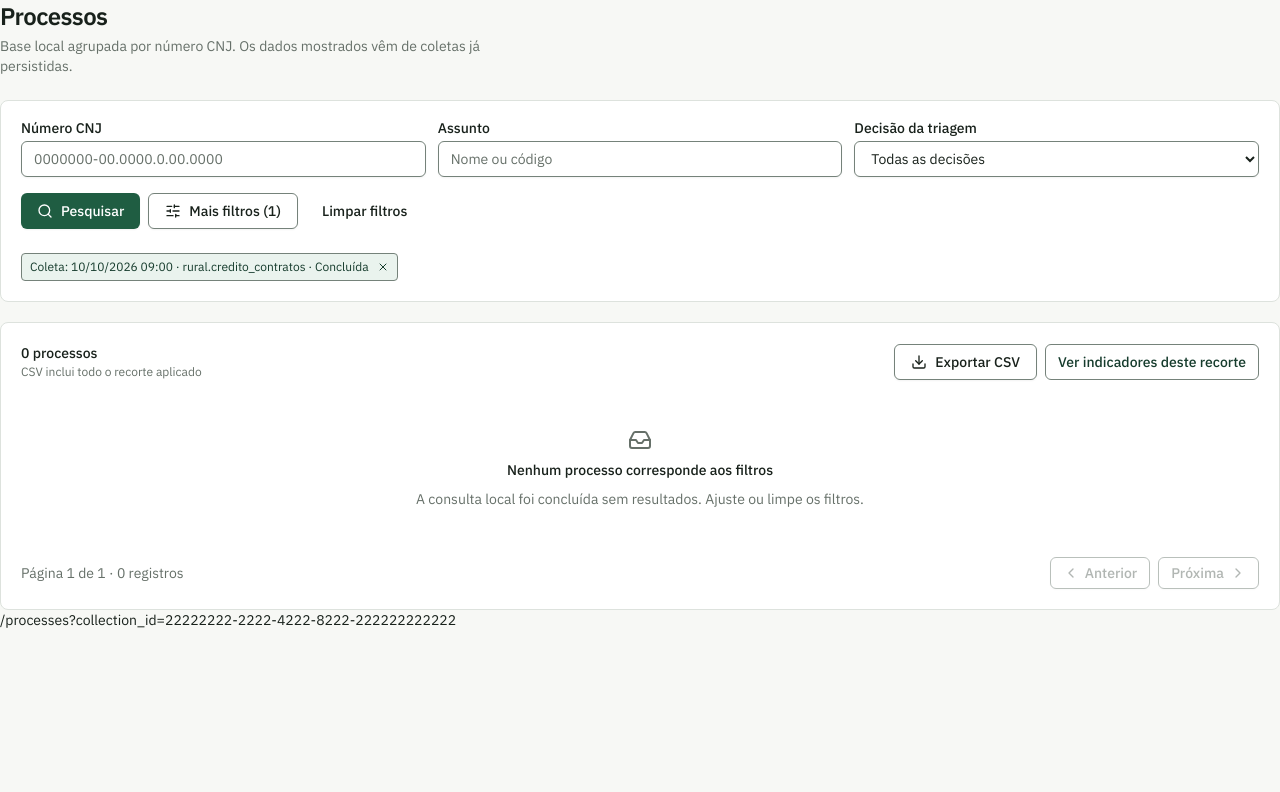
Scenario: ProcessesPage › resolves a legacy collection URL without displaying its UUID
Expected: the button with aria-label "Remover filtro Coleta" shows "10/10/2026 09:00 · rural.credito_contratos · Concluída", [21,253,398,281]
Expected: the button with aria-label "Remover filtro Coleta" does not show "22222222-2222-4222-8222-222222222222", [21,253,398,281]
Click the button "Mais filtros (1)": (223, 211) [148,193,298,229]
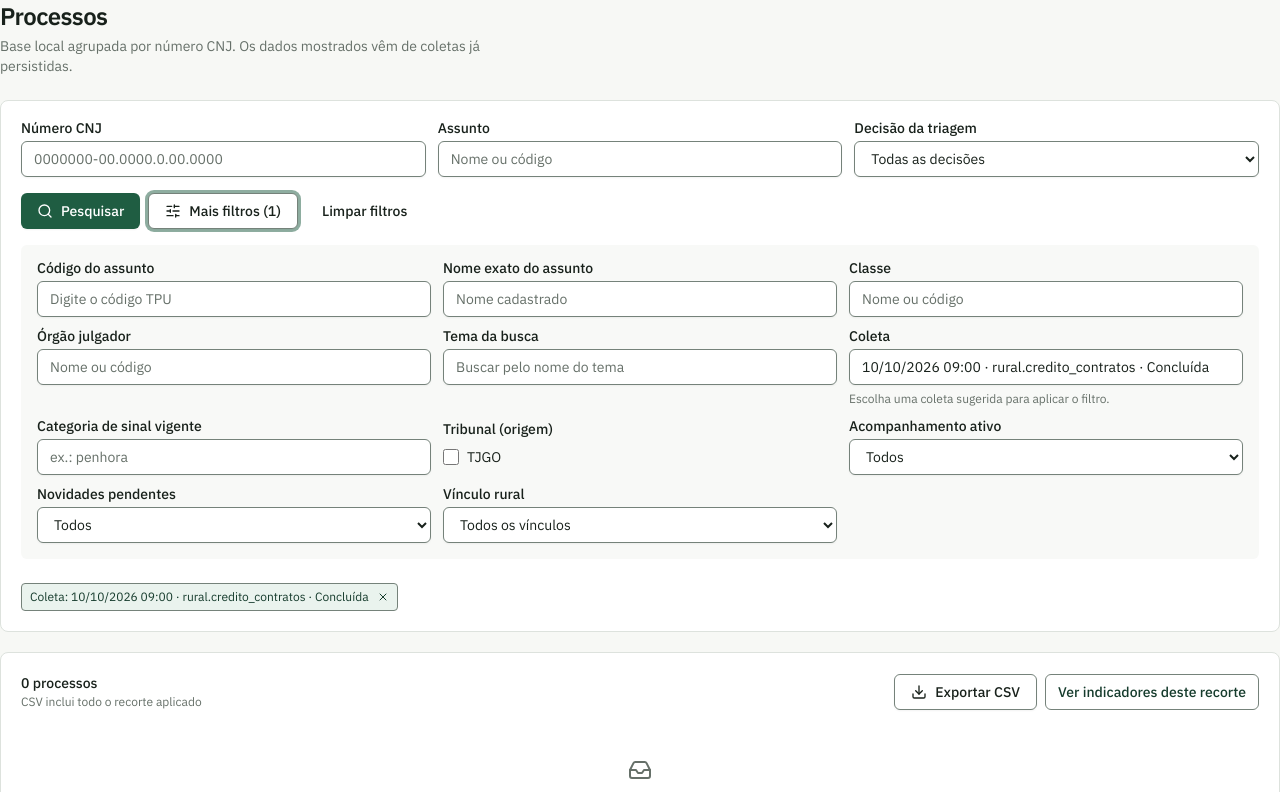
Now the dropdown labelled "Coleta" holds "10/10/2026 09:00 · rural.credito_contratos · Concluída", box [849,349,1243,385]
Now the dropdown labelled "Coleta" does not hold "22222222-2222-4222-8222-222222222222", box [849,349,1243,385]
